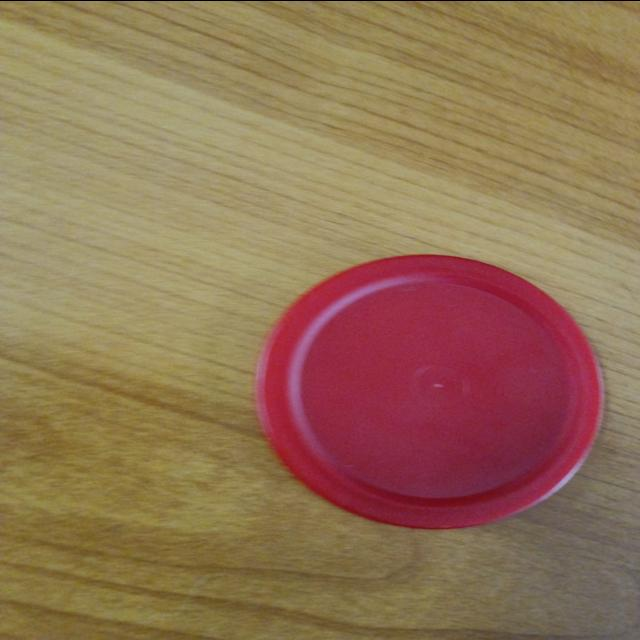chip: (256, 256, 604, 530)
